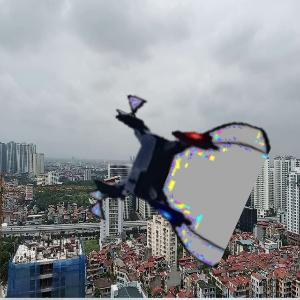drone: (91, 94, 253, 256)
